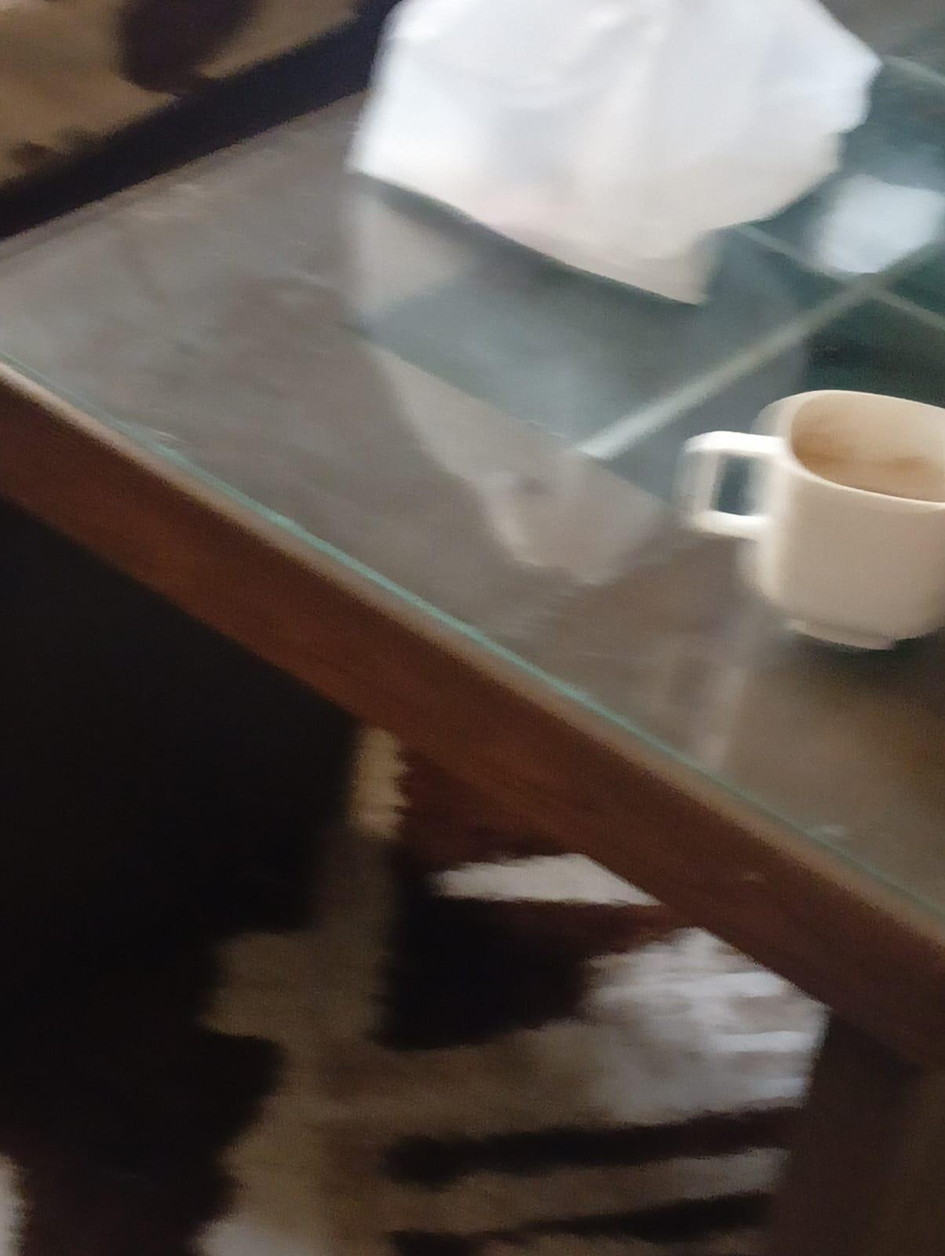cup: (678, 390, 944, 649)
